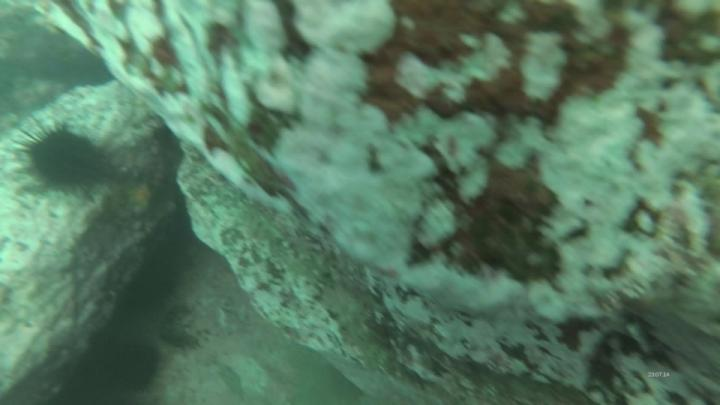echinus: (27, 127, 117, 195), (90, 331, 159, 389)
